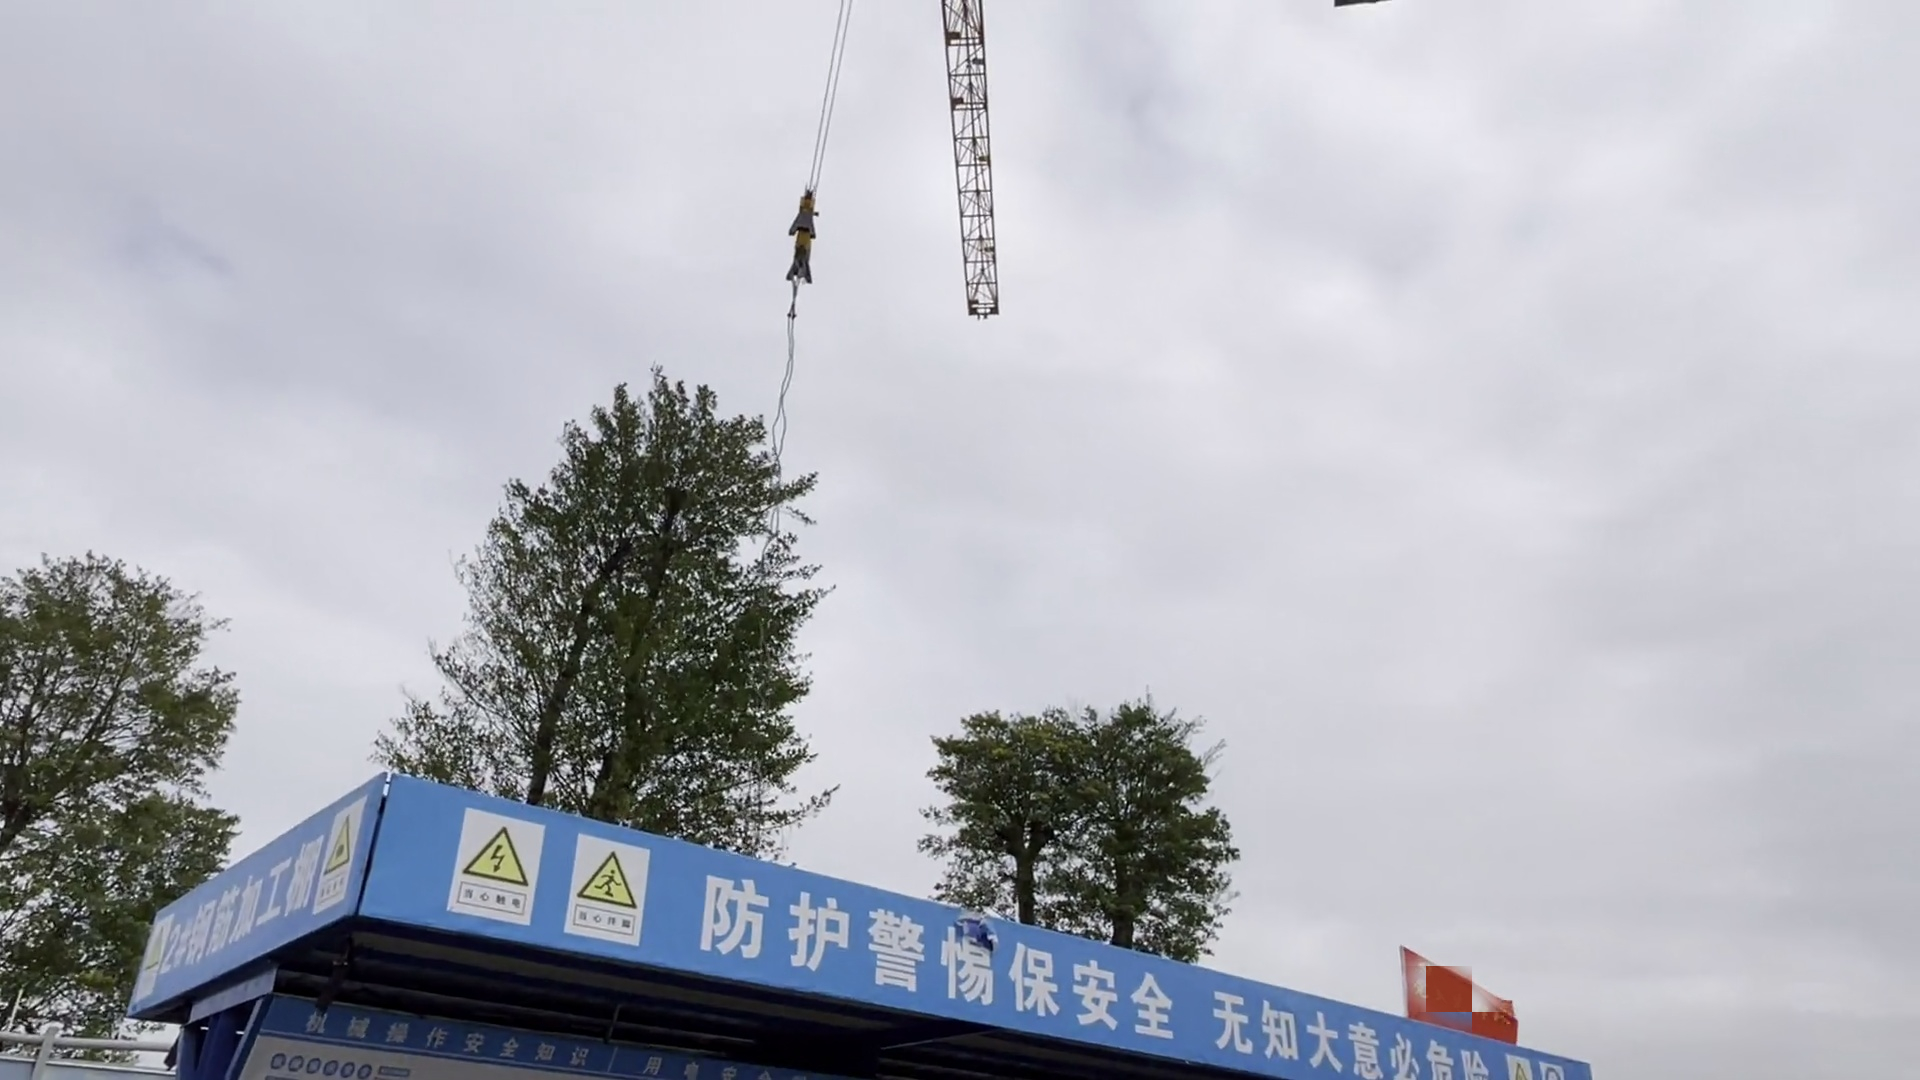hook: (778, 177, 825, 289)
slogan: (452, 804, 1531, 1080), (131, 800, 376, 989)
